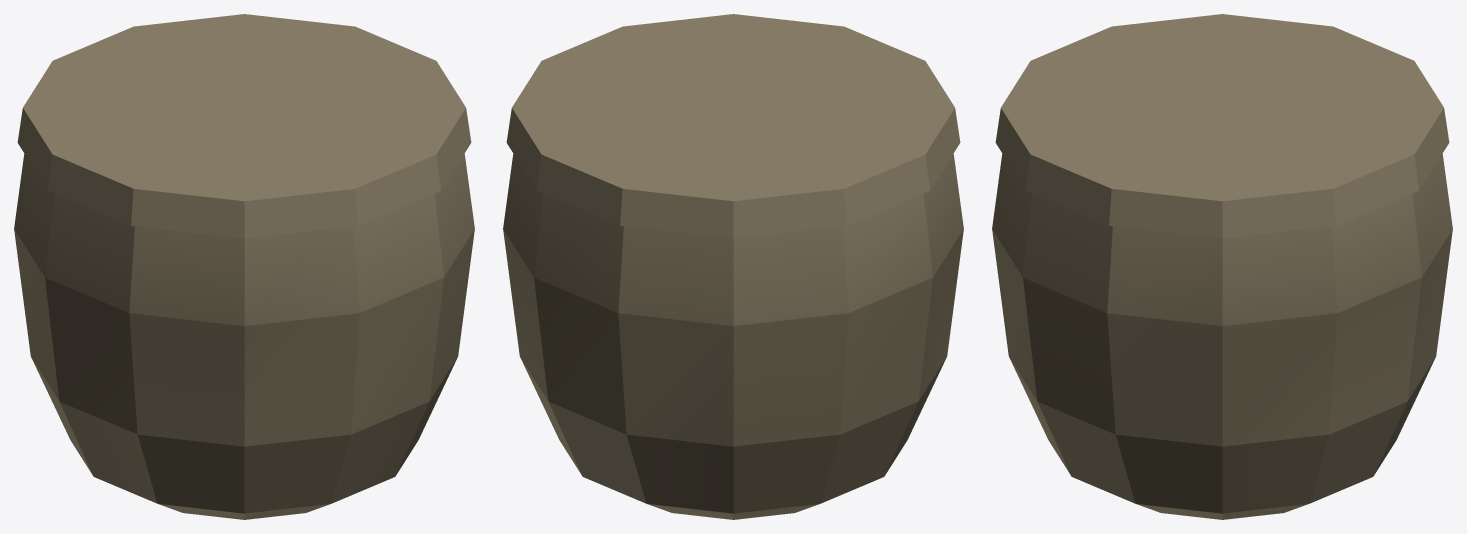
The model's file is prop_kago.glb.
3 views of the same model, side by side, from view 1: azimuth 30°, elevation 25°; view 2: azimuth 150°, elevation 25°; view 3: azimuth 270°, elevation 25° (orthographic).
Parts seen in each view (by area): view 1: prop_kago; view 2: prop_kago; view 3: prop_kago.
Part boxes in pixels (x1,y1,x2,y2): prop_kago: (14,14,474,519); prop_kago: (503,14,963,519); prop_kago: (992,14,1452,519).
Bounding box in the file's own units: 0.524 × 0.452 × 0.524.
